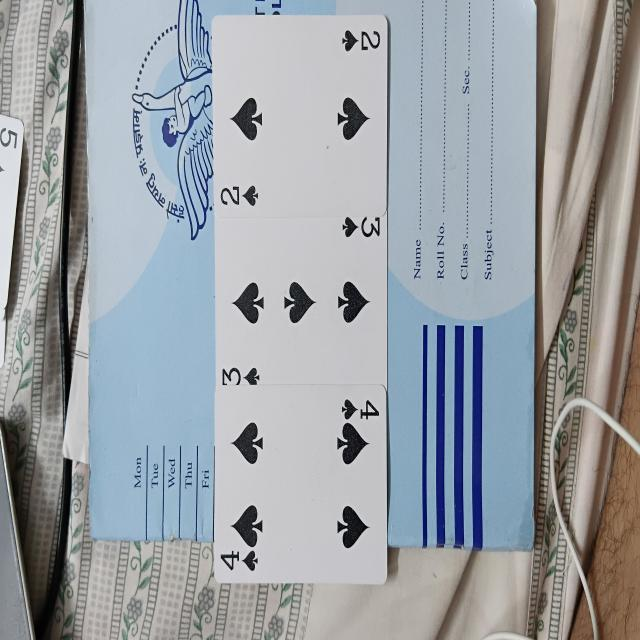2S: (212, 17, 386, 215)
3S: (216, 208, 388, 392)
4S: (214, 392, 388, 582)
